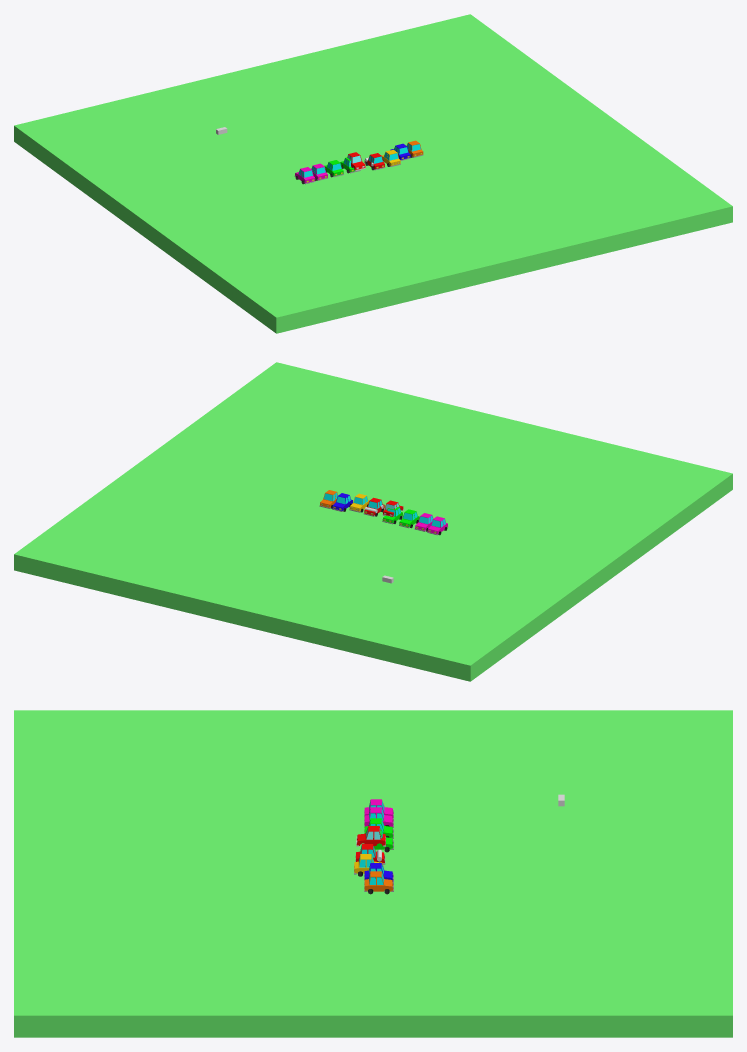
The model's file is Gotthard_3.5.glb.
3 renders of one model, top to bottom at view 1: azimuth 30°, elevation 25°; view 2: azimuth 150°, elevation 25°; view 3: azimuth 270°, elevation 25°, orthographic. The views are drawn at different scales.
Parts seen in each view (by area): view 1: Erde; view 2: Erde; view 3: Erde.
Boxes of the visible parts, x1=… form: Erde: x1=14, y1=14, x2=732, y2=333; Erde: x1=14, y1=362, x2=732, y2=681; Erde: x1=14, y1=710, x2=732, y2=1037.
Size of the model in its own units: 5.97 by 0.4301 by 5.95.
Materials: 11 (11 with a texture image).
